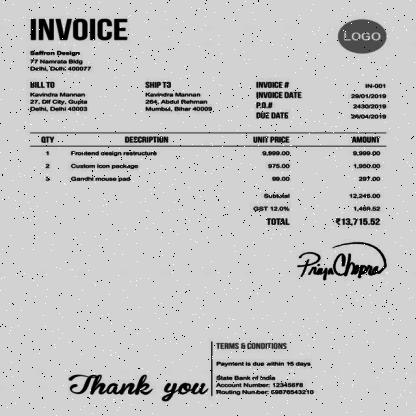Paragraph: (214, 342, 315, 396), (255, 80, 388, 120), (251, 191, 383, 228), (26, 16, 130, 42), (143, 80, 213, 112), (29, 80, 89, 112), (29, 49, 93, 73)
Table: (28, 132, 387, 186)
